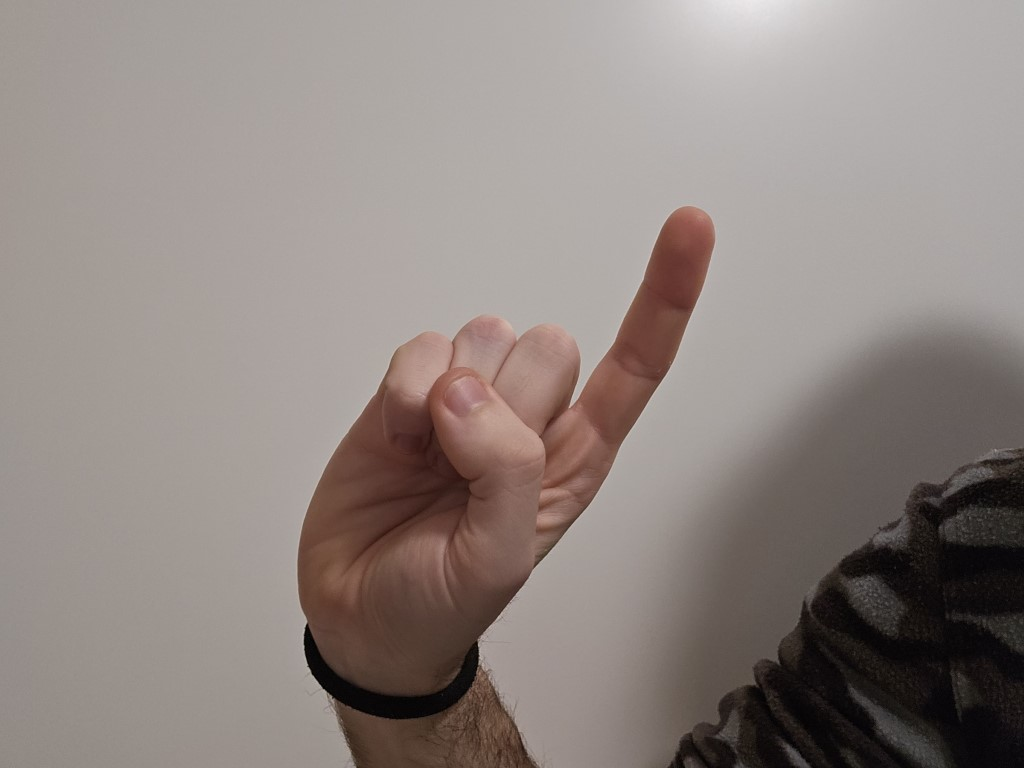z: (256, 191, 734, 659)
